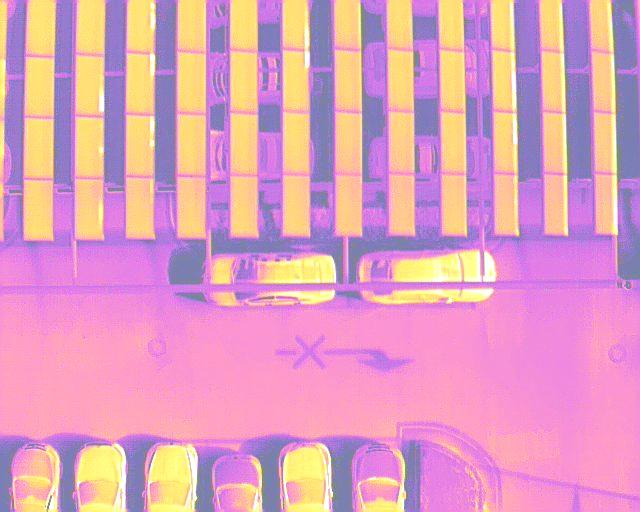Cell: (75, 116, 105, 180)
No-Anomaly: (177, 177, 208, 239), (24, 180, 55, 241), (178, 114, 208, 177), (127, 175, 156, 240), (334, 48, 363, 113), (230, 112, 259, 176), (283, 110, 311, 176), (334, 110, 362, 176), (25, 117, 55, 178), (230, 176, 259, 239), (178, 51, 207, 114), (282, 174, 310, 237), (388, 111, 415, 176), (335, 174, 363, 236), (27, 56, 55, 117), (591, 111, 618, 174), (388, 50, 415, 113), (75, 0, 105, 56), (231, 50, 258, 112), (542, 111, 568, 174), (389, 174, 415, 237), (440, 50, 466, 113), (27, 0, 56, 55), (493, 173, 518, 236), (441, 174, 466, 237), (541, 49, 566, 112), (591, 51, 616, 114), (442, 111, 466, 175), (544, 172, 568, 235), (178, 0, 207, 52), (230, 0, 258, 51), (440, 0, 466, 51), (334, 0, 361, 49), (387, 0, 414, 49), (540, 0, 564, 52), (591, 0, 614, 52), (493, 0, 516, 50)
Unclassified: (125, 53, 155, 115), (76, 55, 106, 117), (283, 49, 312, 111), (76, 178, 105, 239), (126, 115, 154, 178), (594, 172, 619, 235), (127, 0, 156, 53), (494, 110, 517, 175), (493, 49, 516, 114), (282, 0, 310, 50)
